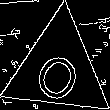O_NE: (29, 36, 88, 102)
